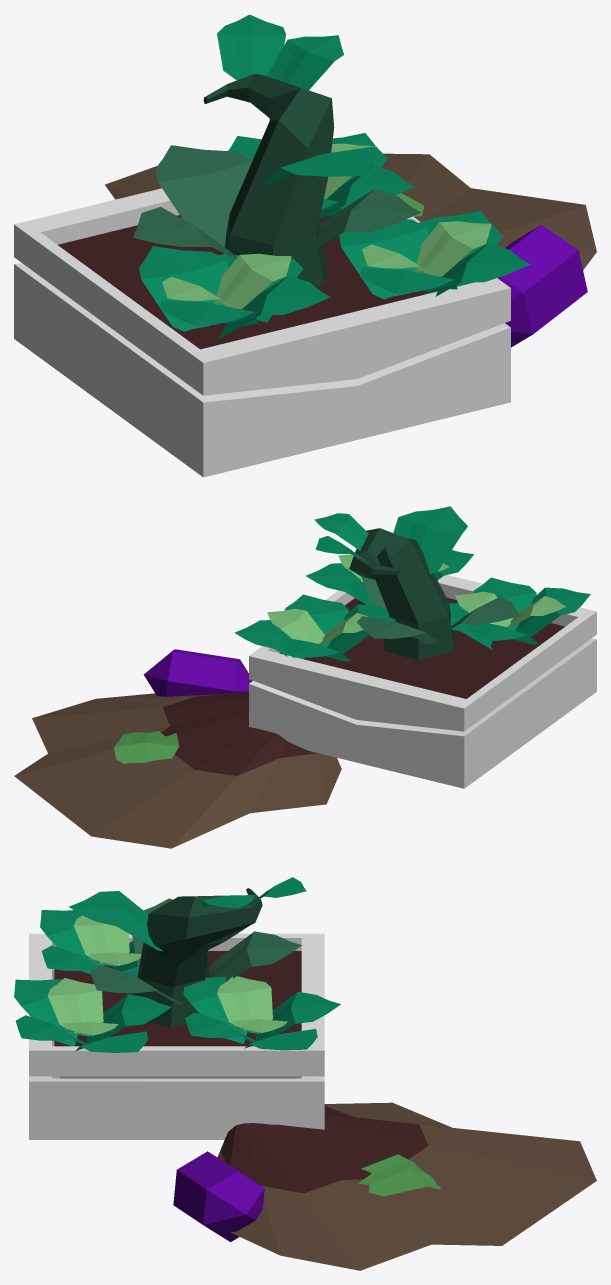
The model's file is Destroyed_plant_farm_007.fbx.
The picture shows the model from 3 angles, top to bottom: view 1: azimuth 30°, elevation 25°; view 2: azimuth 150°, elevation 25°; view 3: azimuth 270°, elevation 25°; orthographic projection. The views are drawn at different scales.
Parts seen in each view (by area): view 1: polySurface2179, polySurface2178, polySurface2175, polySurface2401, polySurface2402, polySurface2180, polySurface2857, polySurface2176, polySurface2177, polySurface2403, polySurface2192, polySurface2189 (+3 smaller); view 2: polySurface2857, polySurface2179, polySurface2178, polySurface2175, polySurface2180, polySurface2403, polySurface2401, polySurface2176, polySurface2191, polySurface2402, polySurface2859, polySurface2177 (+3 smaller); view 3: polySurface2857, polySurface2179, polySurface2178, polySurface2175, polySurface2402, polySurface2403, polySurface2176, polySurface2180, polySurface2401, polySurface2177, polySurface2191, polySurface2859 (+4 smaller).
Part boxes in pixels (bbox=[...]): polySurface2179: bbox=[14, 263, 510, 477]; polySurface2178: bbox=[14, 188, 510, 395]; polySurface2175: bbox=[203, 74, 334, 286]; polySurface2401: bbox=[139, 246, 330, 339]; polySurface2402: bbox=[339, 210, 530, 299]; polySurface2180: bbox=[57, 215, 426, 349]; polySurface2857: bbox=[105, 153, 596, 269]; polySurface2176: bbox=[497, 225, 587, 347]; polySurface2177: bbox=[155, 145, 252, 247]; polySurface2403: bbox=[228, 133, 414, 219]; polySurface2192: bbox=[217, 14, 286, 80]; polySurface2189: bbox=[296, 189, 421, 259]; polySurface2857: bbox=[14, 693, 341, 848]; polySurface2179: bbox=[249, 638, 596, 788]; polySurface2178: bbox=[249, 575, 596, 731]; polySurface2175: bbox=[349, 528, 454, 660]; polySurface2180: bbox=[279, 597, 564, 698]; polySurface2403: bbox=[234, 594, 395, 661]; polySurface2401: bbox=[449, 577, 590, 649]; polySurface2176: bbox=[143, 649, 252, 696]; polySurface2191: bbox=[393, 506, 467, 574]; polySurface2402: bbox=[306, 550, 473, 605]; polySurface2859: bbox=[114, 731, 179, 763]; polySurface2177: bbox=[357, 616, 438, 643]; polySurface2857: bbox=[217, 1102, 596, 1270]; polySurface2179: bbox=[29, 969, 324, 1139]; polySurface2178: bbox=[29, 933, 324, 1076]; polySurface2175: bbox=[134, 888, 262, 1027]; polySurface2402: bbox=[14, 978, 171, 1052]; polySurface2403: bbox=[183, 976, 340, 1050]; polySurface2176: bbox=[173, 1151, 264, 1242]; polySurface2180: bbox=[54, 951, 301, 1046]; polySurface2401: bbox=[40, 910, 141, 977]; polySurface2177: bbox=[208, 931, 302, 981]; polySurface2191: bbox=[69, 891, 163, 951]; polySurface2859: bbox=[358, 1154, 440, 1196].
Size of the model in its own units: 3 by 1.59 by 3.23.
